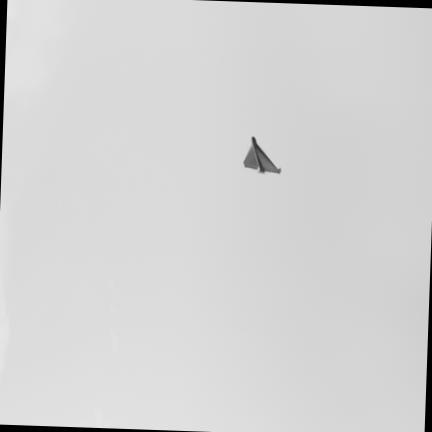Shahed: (244, 136, 280, 172)
